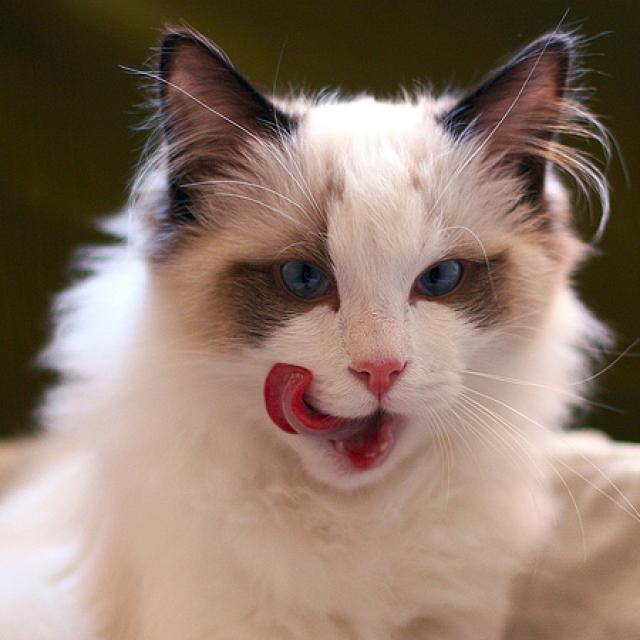Ragdoll: (34, 20, 624, 640)
